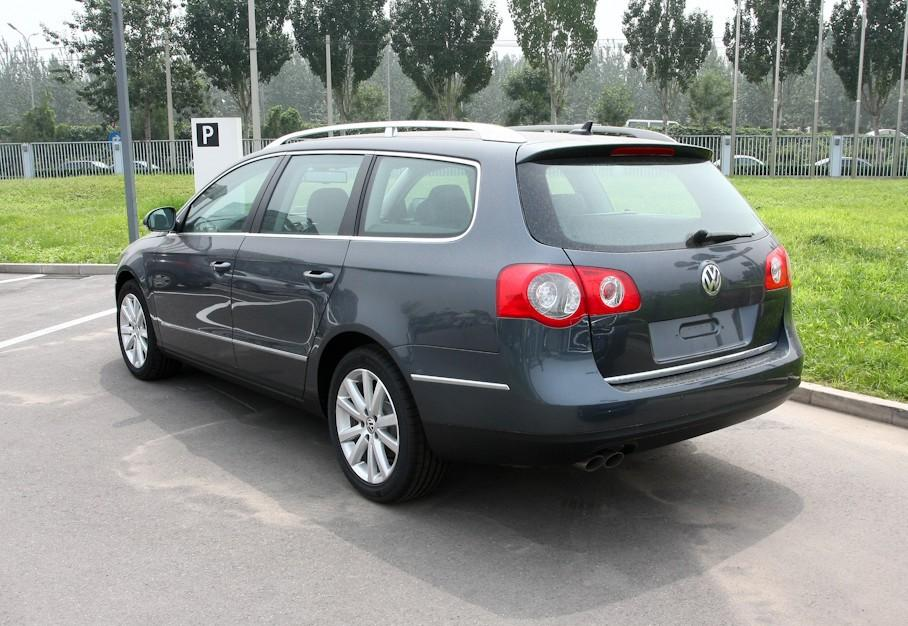Wagon: (114, 132, 806, 505)
